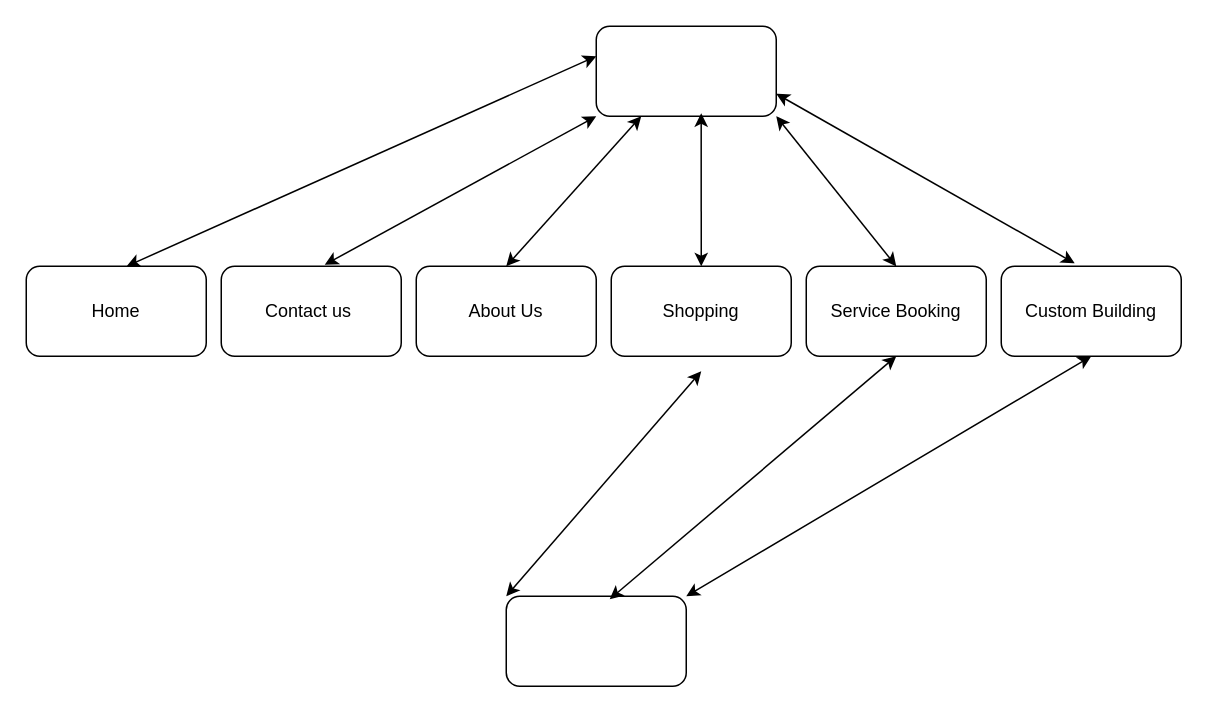
Some shapes in this 1208 by 713 pixel diagram are drawn without their labels. The centre of each missing label's shape, as x and y in pixels:
"Finalization Page" belongs at (x=595, y=640).
"Home Page" belongs at (x=685, y=70).
